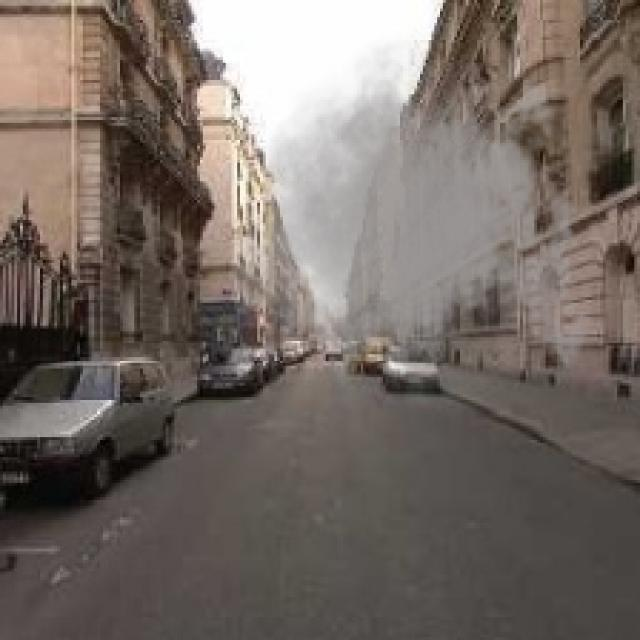smoke: (223, 20, 600, 429)
